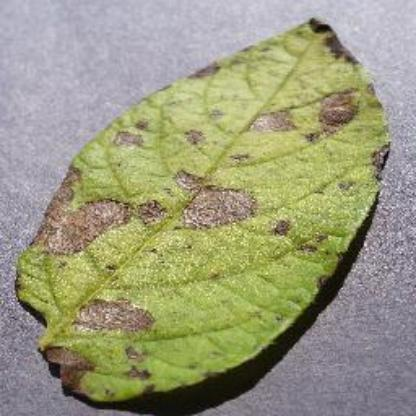Early-Blight: (18, 13, 398, 408)
